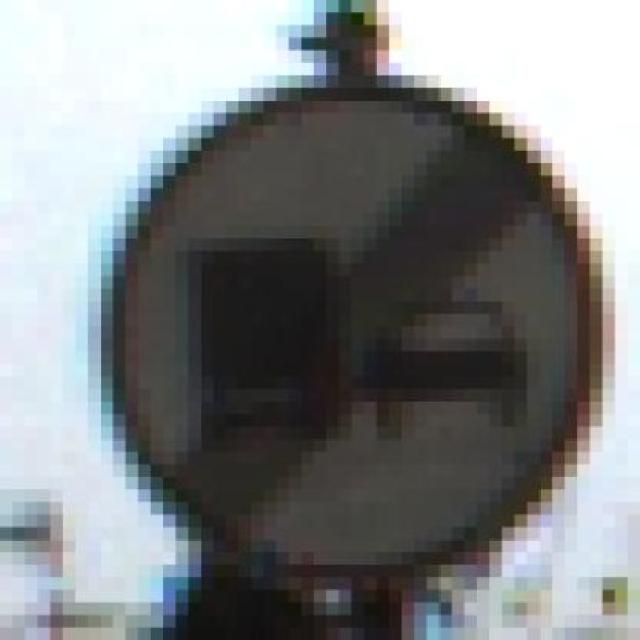Overtaking by trucks is prohibited: (63, 62, 628, 615)
